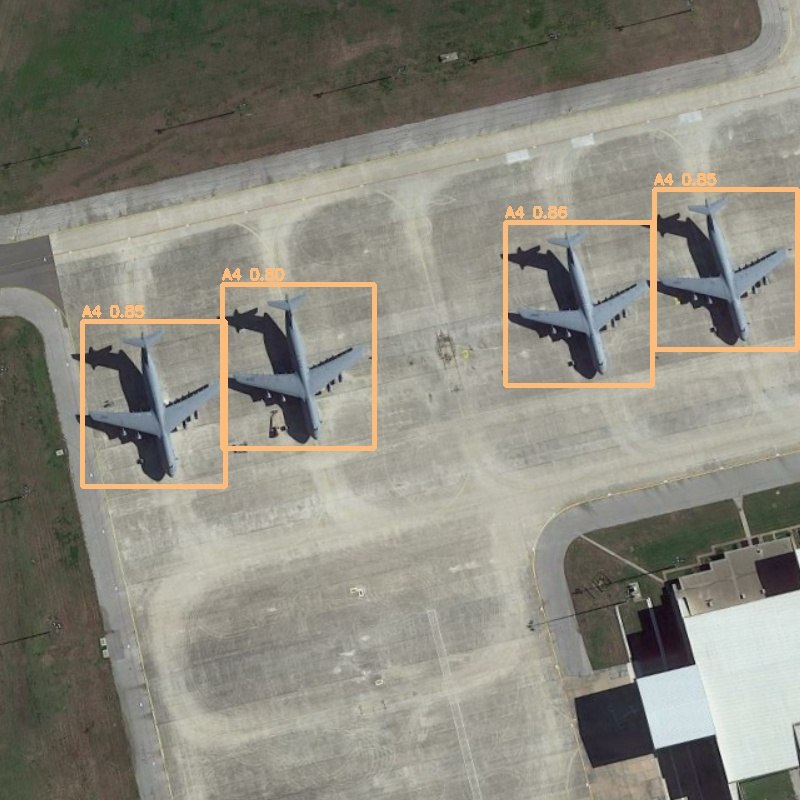A4: (222, 284, 374, 448), (505, 222, 652, 385), (82, 321, 225, 486), (654, 189, 797, 349)
